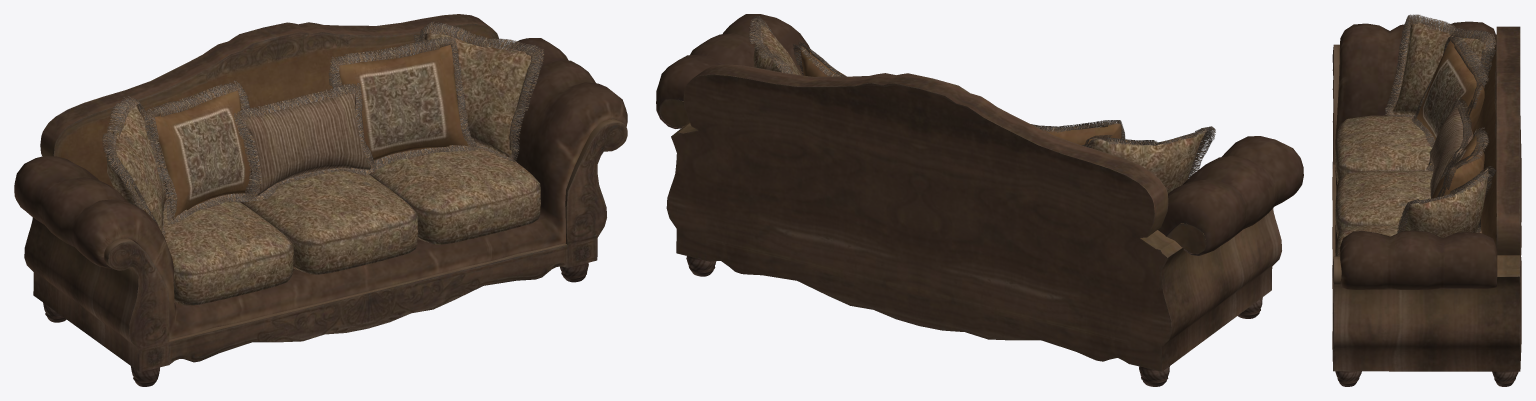
Rendered from sofa.glb.
The picture shows the model from 3 angles, left to right: view 1: azimuth 30°, elevation 25°; view 2: azimuth 150°, elevation 25°; view 3: azimuth 270°, elevation 25°; orthographic projection. The views are drawn at different scales.
Visible parts, largest first — view 1: Cushions, Wood, Leather, Legs; view 2: Wood, Leather, Cushions, Legs; view 3: Cushions, Wood, Leather, Legs.
Boxes of the visible parts, x1,y1,x2,y2 form: Cushions: (102,21,544,305); Wood: (24,14,627,371); Leather: (14,38,627,339); Legs: (43,263,588,386); Wood: (659,64,1303,371); Leather: (656,14,1303,255); Cushions: (748,16,1215,193); Legs: (686,256,1262,386); Cushions: (1335,14,1496,256); Wood: (1332,26,1521,371); Leather: (1335,21,1497,289); Legs: (1335,371,1518,386).
Bounding box in the file's own units: 2.73 × 1.12 × 0.9248.
Materials: 4 (4 with a texture image).
